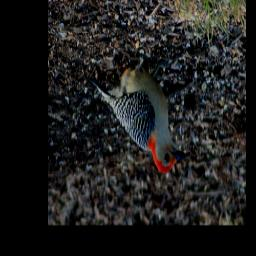Woodpecker: (94, 46, 188, 172)
